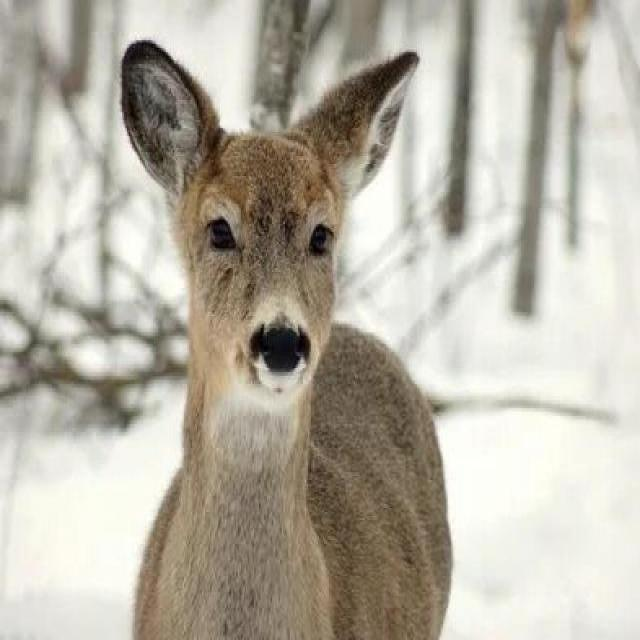deer: (95, 65, 498, 640)
